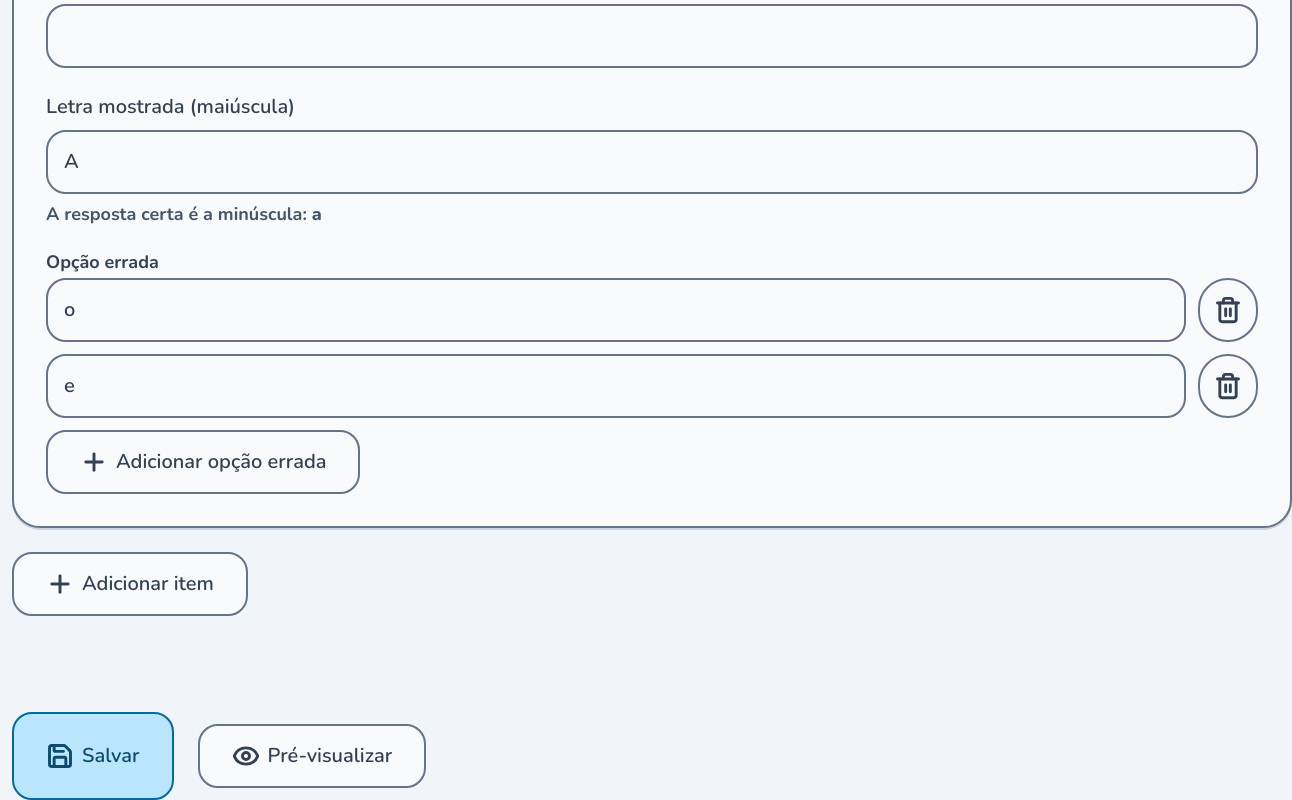
Scenario: ActivityEditor — criar › mostra mensagem gentil se o servidor falhar
(page scrolled)
Step 1. Click the button "Salvar" → (93, 756), box [12,712,174,799]
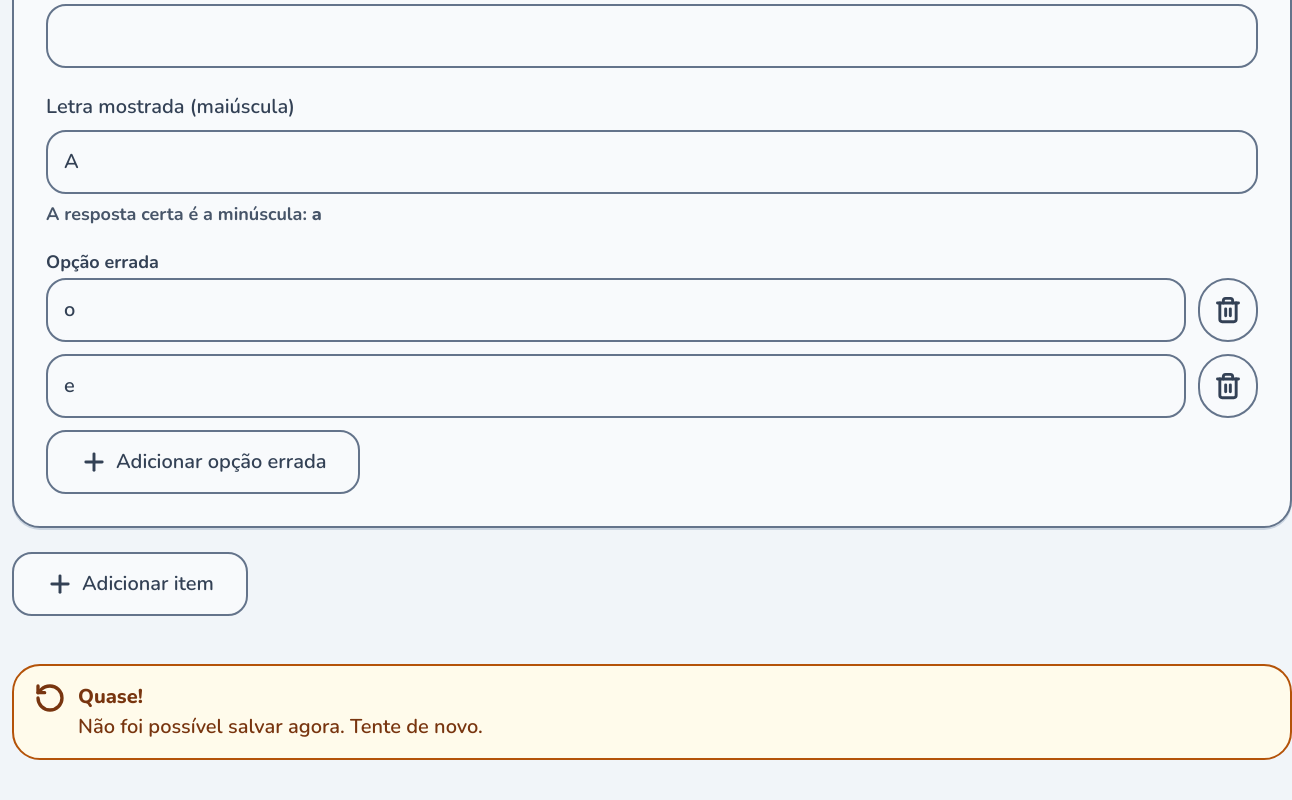
Now the text "Não foi possível salvar agora. Tente de novo." is shown, box [78,713,483,740]
